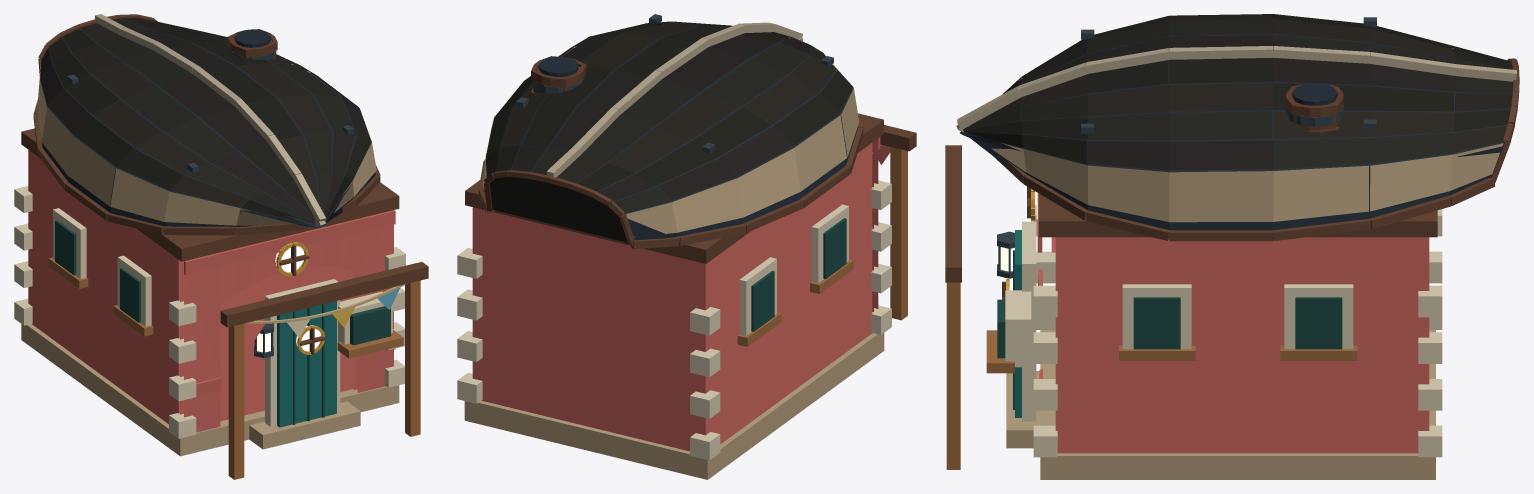
Rendered from boat-shop-small-coral.glb.
3 views of the same model, side by side, from view 1: azimuth 30°, elevation 25°; view 2: azimuth 150°, elevation 25°; view 3: azimuth 270°, elevation 25° (orthographic). The views are drawn at different scales.
Parts seen in each view (by area): view 1: boat-shop-small-coral; view 2: boat-shop-small-coral; view 3: boat-shop-small-coral.
Part boxes in pixels (x1,y1,x2,y2): boat-shop-small-coral: (14, 14, 428, 479); boat-shop-small-coral: (457, 14, 916, 479); boat-shop-small-coral: (945, 14, 1519, 479).
Size of the model in its own units: 3.44 by 3.68 by 5.24.
